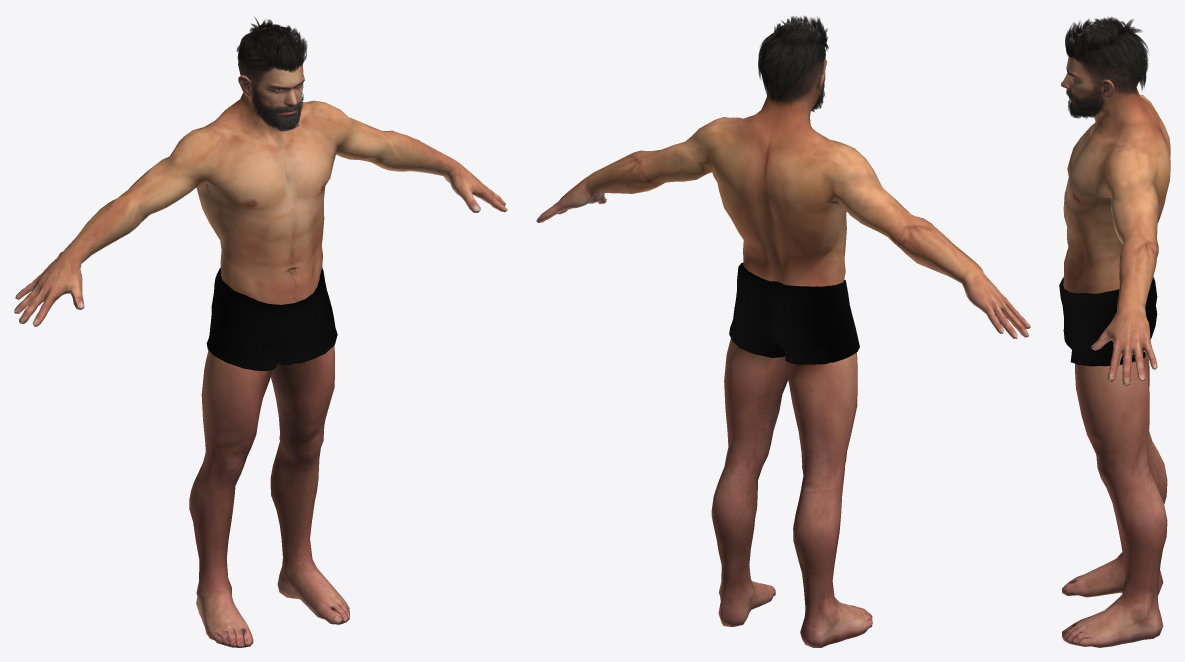
Rendered from man.glb.
3 renders of one model, left to right at view 1: azimuth 30°, elevation 25°; view 2: azimuth 150°, elevation 25°; view 3: azimuth 270°, elevation 25°, orthographic.
Visible parts, largest first — view 1: Object_4, Object_2, Object_9, Object_5, Object_8, Object_10; view 2: Object_4, Object_2, Object_6, Object_7, Object_10; view 3: Object_4, Object_2, Object_7, Object_11, Object_6, Object_5, Object_10, Object_8, Object_9, Object_3.
Part boxes in pixels (x1,y1,x2,y2): Object_4: [14, 28, 507, 647]; Object_2: [206, 267, 337, 370]; Object_9: [250, 24, 307, 71]; Object_5: [251, 86, 303, 131]; Object_8: [249, 25, 303, 70]; Object_10: [240, 17, 302, 65]; Object_4: [536, 30, 1030, 647]; Object_2: [729, 262, 859, 364]; Object_6: [758, 33, 828, 102]; Object_7: [758, 18, 824, 102]; Object_10: [759, 18, 822, 64]; Object_4: [1061, 28, 1170, 647]; Object_2: [1059, 277, 1157, 366]; Object_7: [1065, 20, 1148, 73]; Object_11: [1067, 21, 1130, 67]; Object_6: [1087, 31, 1148, 90]; Object_5: [1066, 85, 1105, 118]; Object_10: [1069, 17, 1139, 59]; Object_8: [1066, 18, 1112, 59]; Object_9: [1066, 18, 1125, 60]; Object_3: [1074, 78, 1155, 384].
Size of the model in its own units: 160 by 189 by 31.77.
4 materials, 3 textured.
